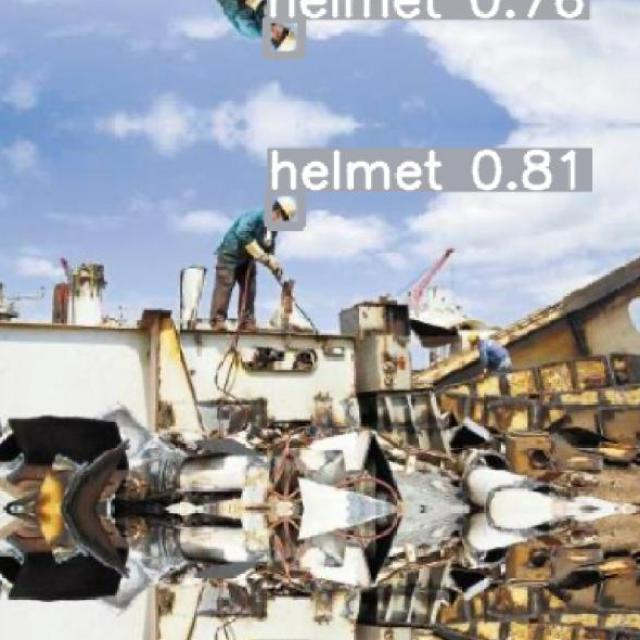helmet: (272, 196, 297, 222)
